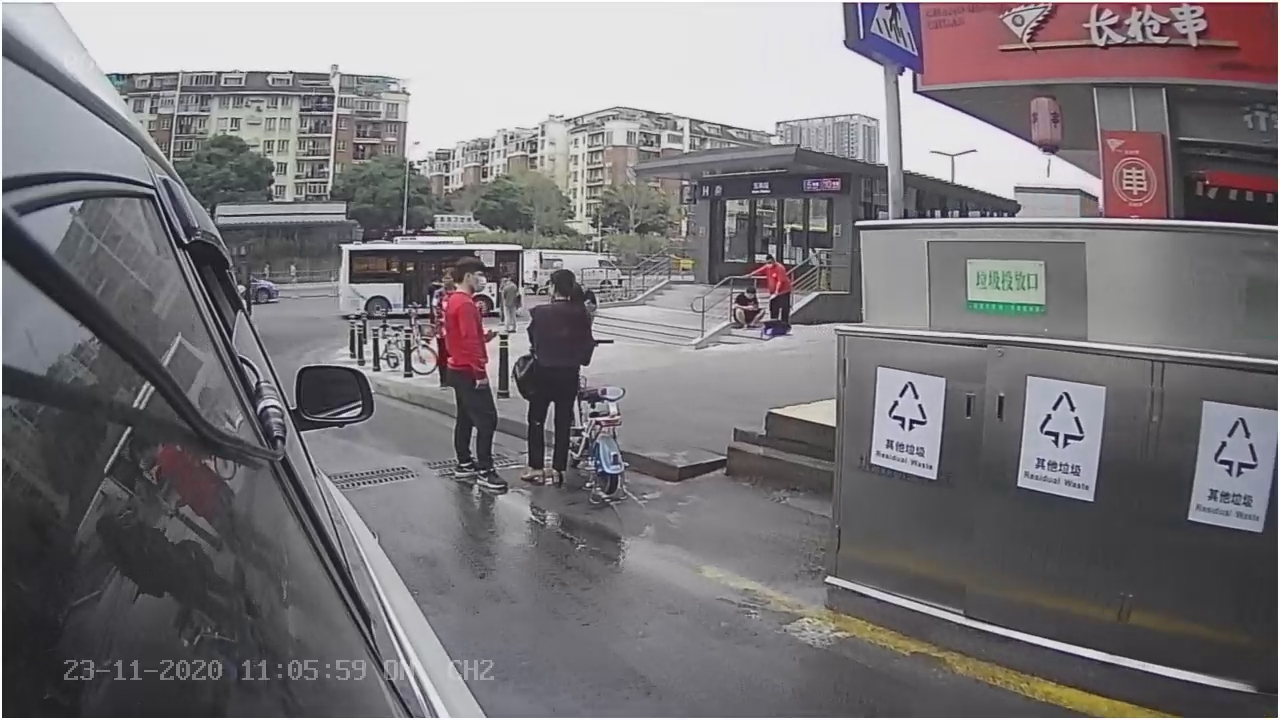person: (433, 264, 504, 503)
